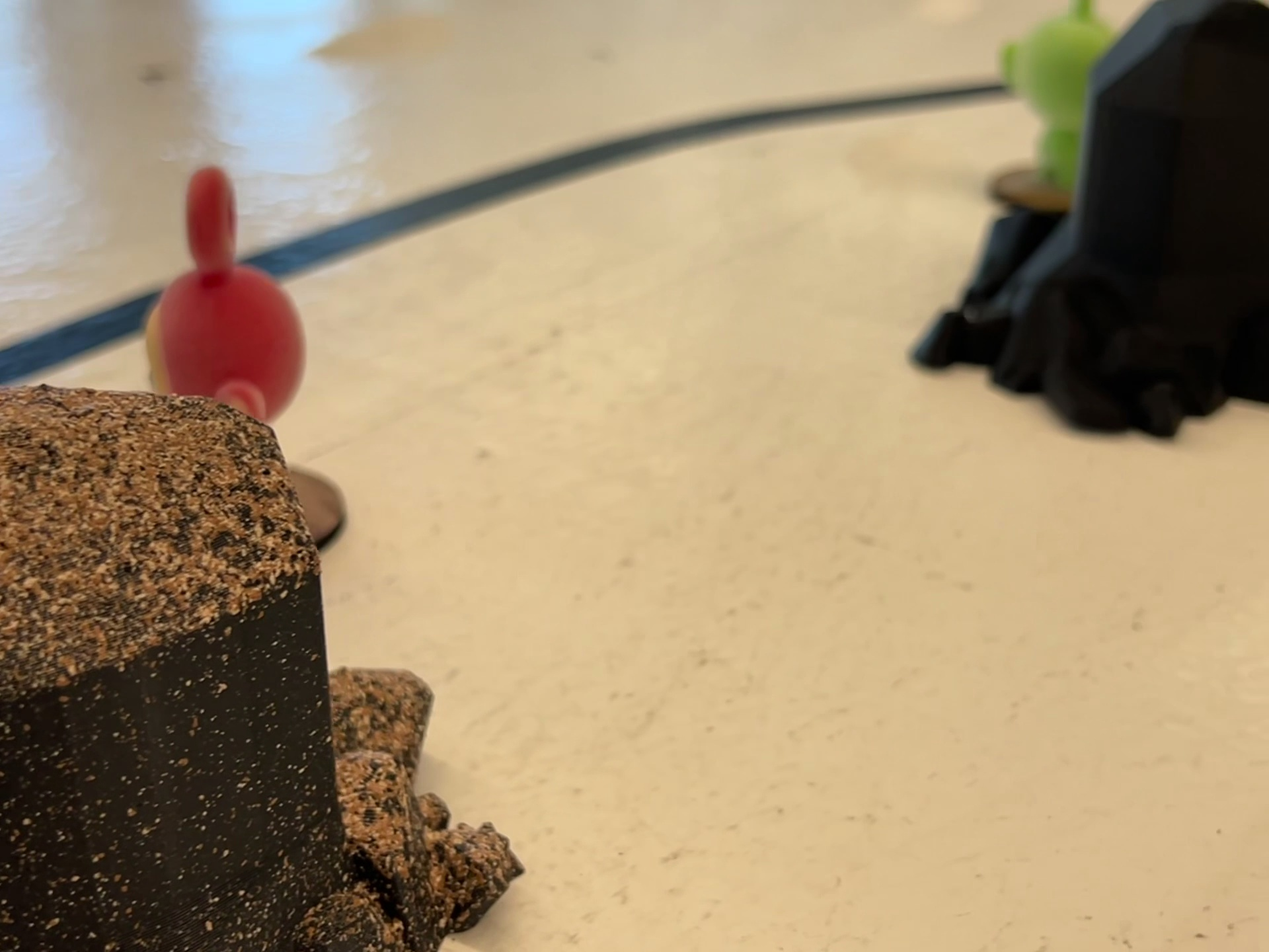teletubby: (145, 167, 305, 422), (1001, 0, 1115, 190)
